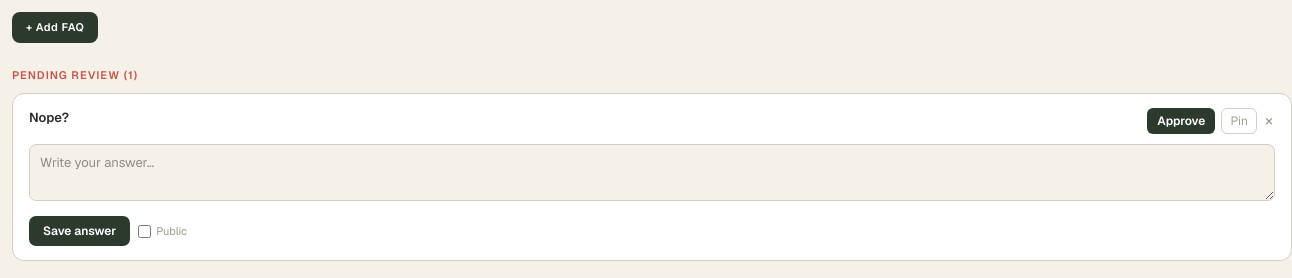
it: <QuestionsManager /> › Delete button removes the row (after confirm)
The image size is (1292, 278).
Step 1. Click the button named "delete" → (1269, 121), box left=1263, top=108, right=1275, bottom=134
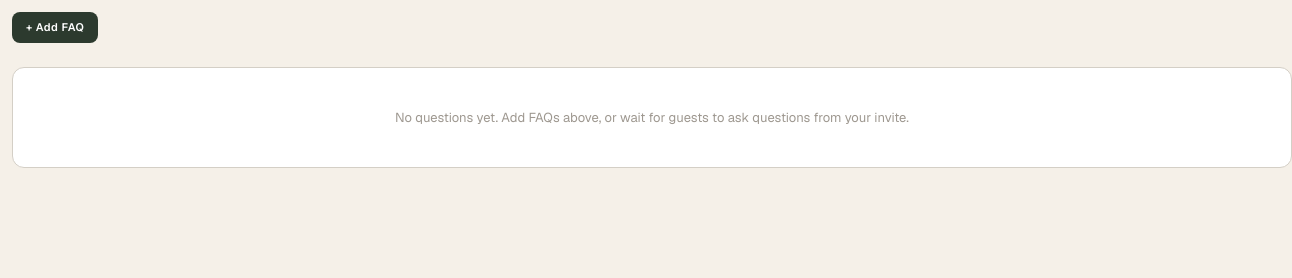
Expected: the text "Nope?" is gone
